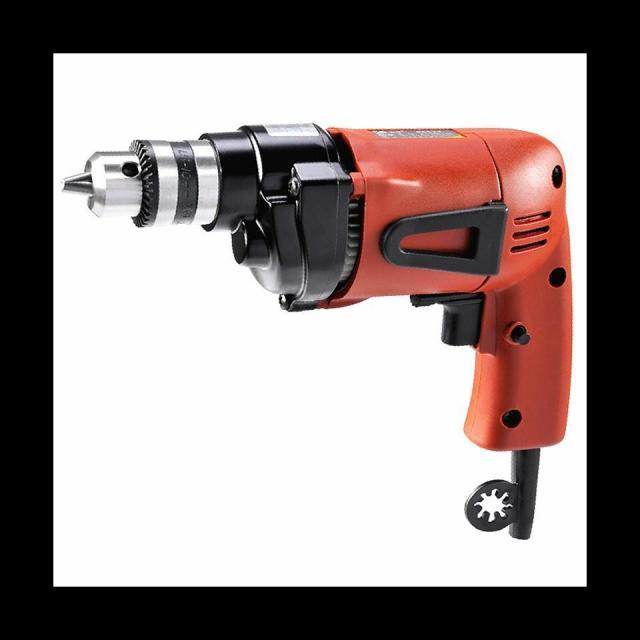drill: (61, 122, 574, 540)
